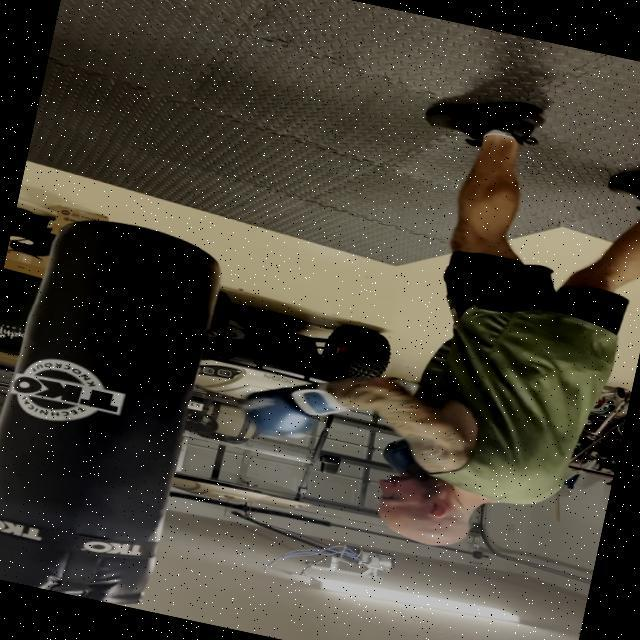jab: (171, 300, 574, 583)
